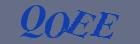E: (63, 10, 96, 37), (89, 12, 119, 38)
O: (44, 12, 69, 37)
Q: (20, 5, 45, 37)
